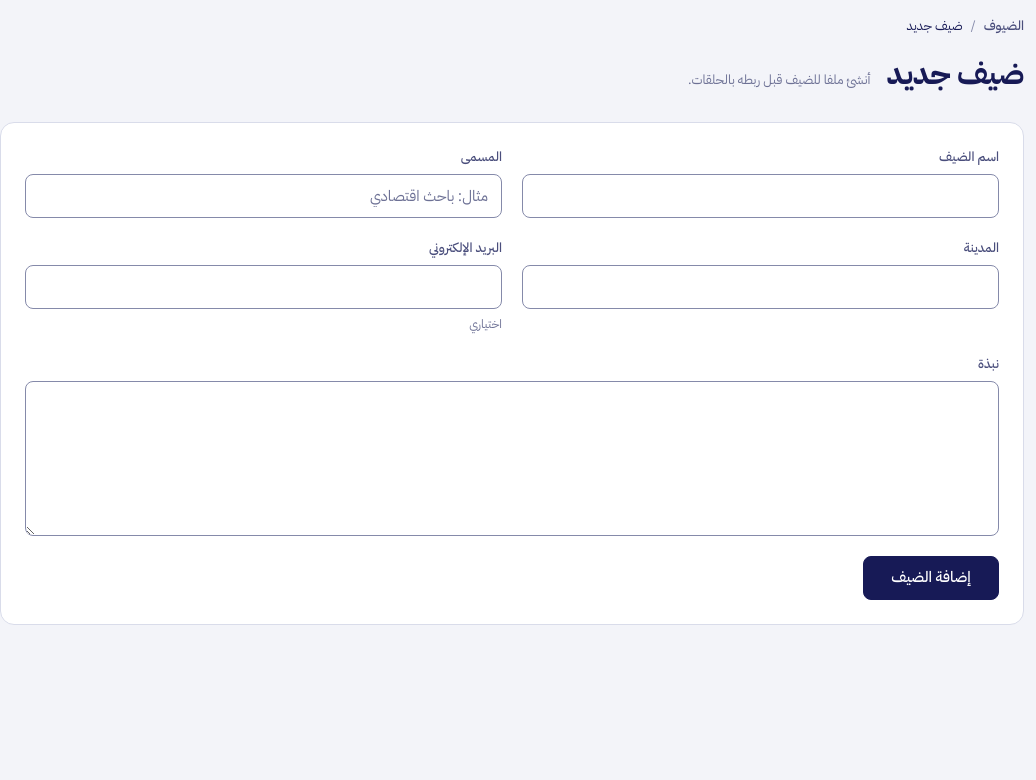
guest creation flow › validates the required name and optional email before creating a guest
The width and height of the screenshot is (1036, 780).
Type "a b@example.com" into the field labelled "البريد الإلكتروني".
click(264, 287); type("a b@example.com")  # box x1=25 y1=265 x2=502 y2=309
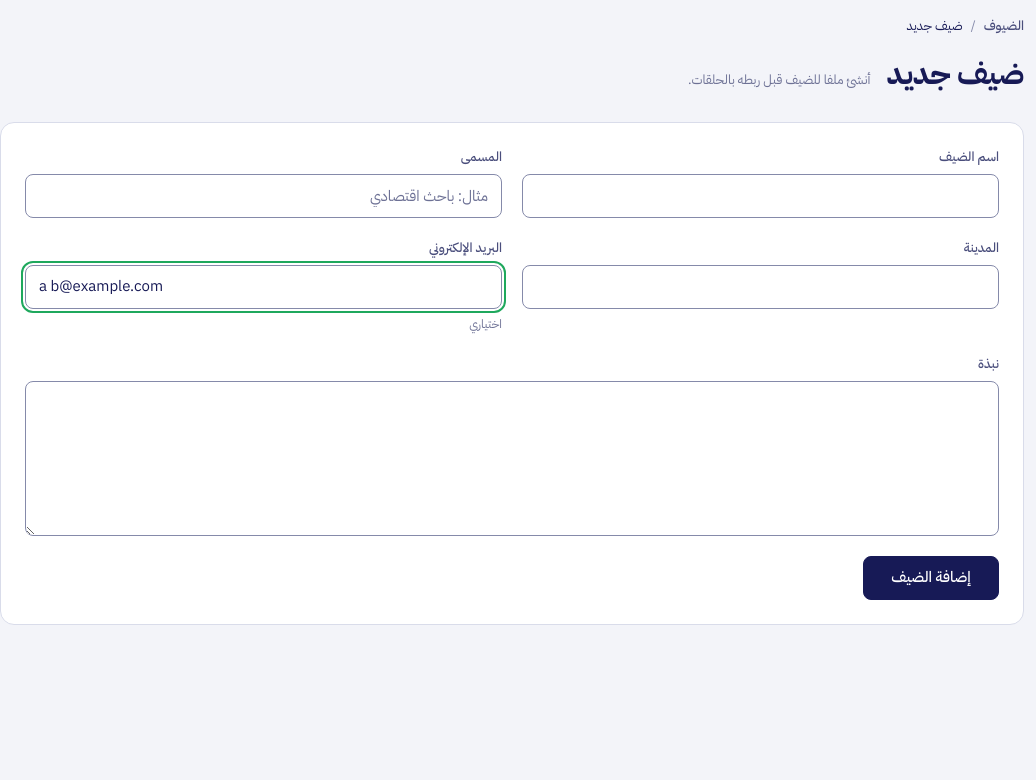
Click the button "إضافة الضيف".
click(931, 578)  # box x1=863 y1=556 x2=999 y2=600
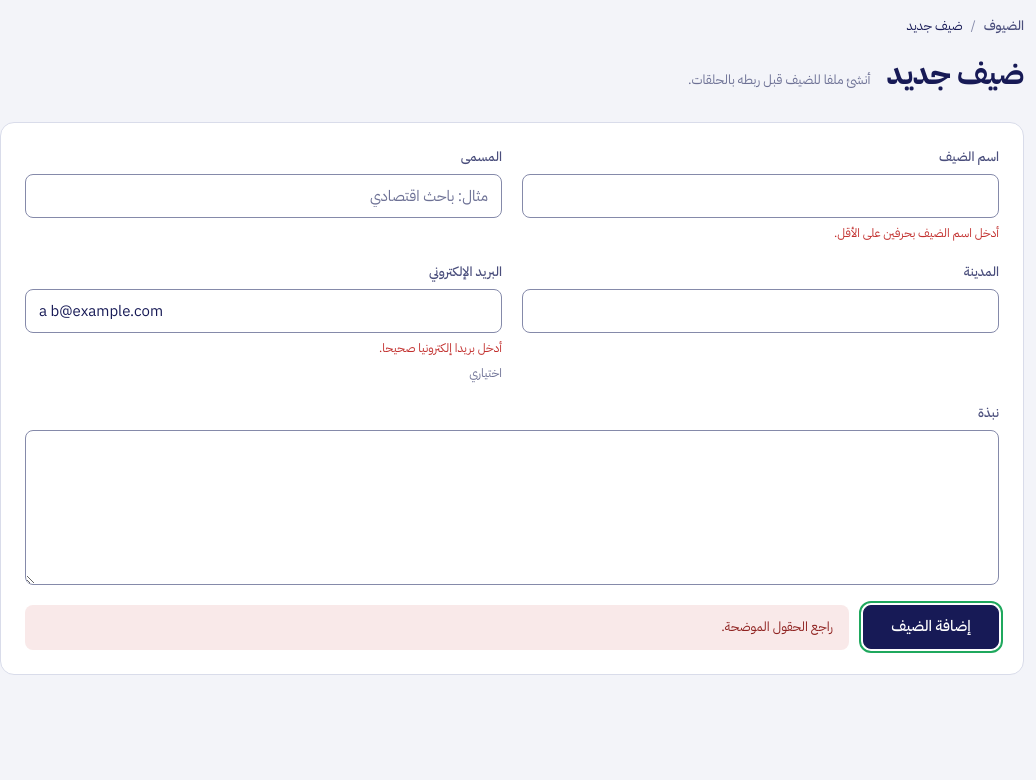
Expected: the text "أدخل اسم الضيف بحرفين على الأقل." is shown, x1=834 y1=224 x2=999 y2=242
Expected: the text "أدخل بريدا إلكترونيا صحيحا." is shown, x1=379 y1=339 x2=502 y2=357
Expected: the message reads "راجع الحقول الموضحة.", x1=721 y1=617 x2=833 y2=636
Type "ندى" into the field labelled "اسم الضيف".
click(760, 196); type("ندى")  # box x1=522 y1=174 x2=999 y2=218
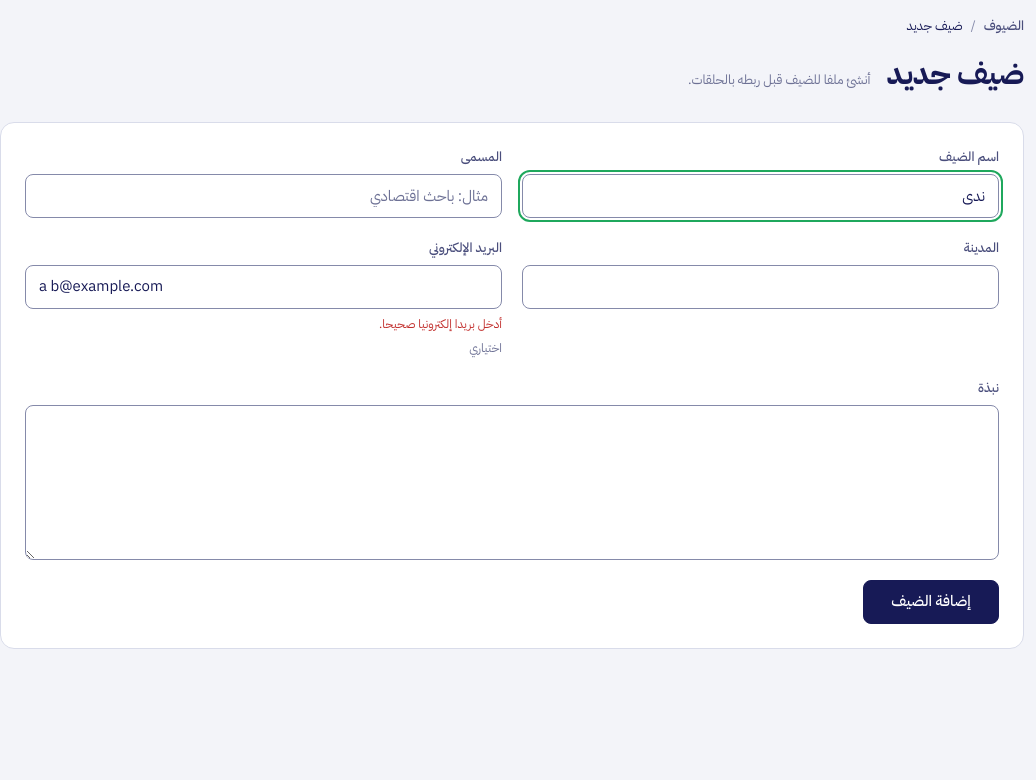
Expected: the text "راجع الحقول الموضحة." is gone
